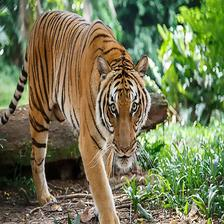tiger: (16, 9, 153, 224)
